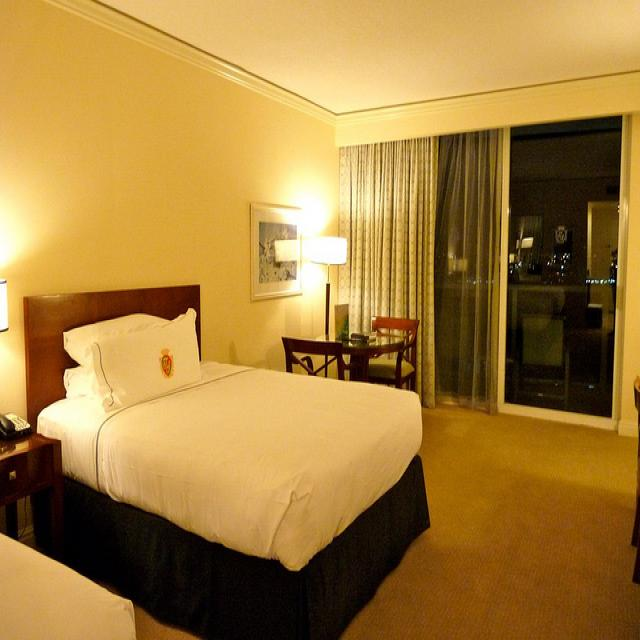chair: (514, 313, 573, 408), (368, 314, 419, 392), (281, 337, 344, 381)
dining table: (316, 306, 405, 354)
